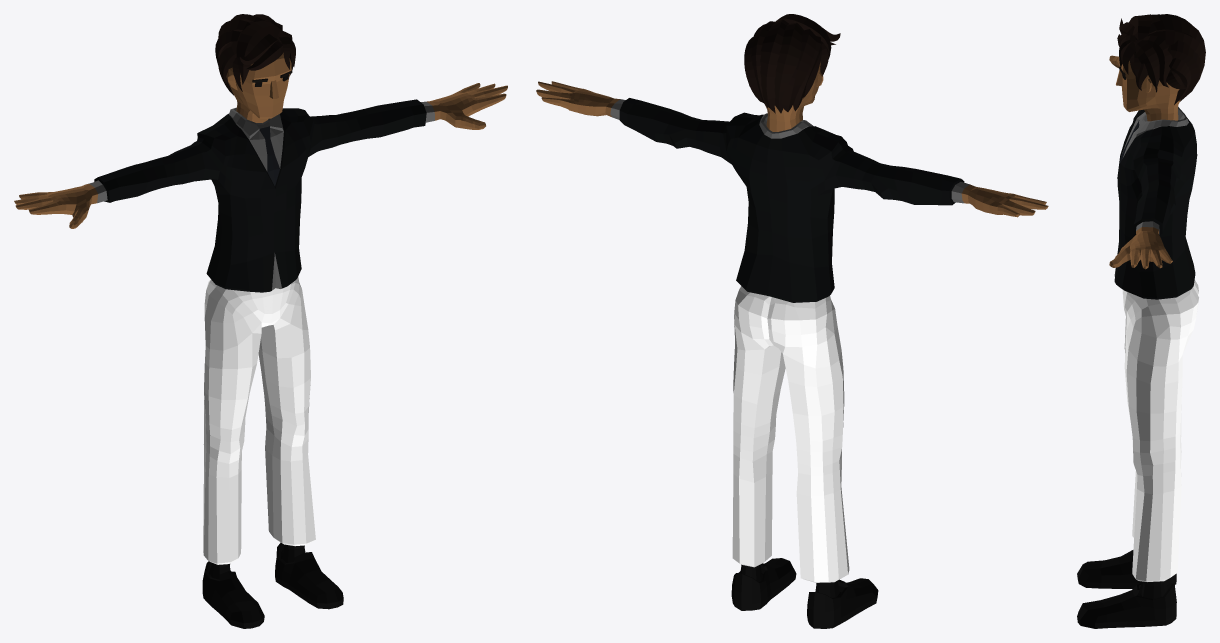
The model's file is Business Man.obj.
The picture shows the model from 3 angles, left to right: view 1: azimuth 30°, elevation 25°; view 2: azimuth 150°, elevation 25°; view 3: azimuth 270°, elevation 25°; orthographic projection. The views are drawn at different scales.
Parts seen in each view (by area): view 1: obj1, obj3, obj2, obj6, obj8, obj7, obj4; view 2: obj1, obj3, obj8, obj2, obj6, obj7, obj4; view 3: obj1, obj3, obj8, obj2, obj7, obj6, obj4.
Boxes of the visible parts, x1=… form: obj1: x1=203, y1=277, x2=315, y2=564; obj3: x1=94, y1=99, x2=426, y2=292; obj2: x1=202, y1=542, x2=343, y2=628; obj6: x1=14, y1=83, x2=507, y2=228; obj8: x1=215, y1=14, x2=295, y2=95; obj7: x1=226, y1=52, x2=291, y2=122; obj4: x1=88, y1=101, x2=434, y2=290; obj1: x1=732, y1=286, x2=849, y2=582; obj3: x1=619, y1=98, x2=964, y2=302; obj8: x1=744, y1=14, x2=840, y2=113; obj2: x1=731, y1=558, x2=878, y2=628; obj6: x1=536, y1=81, x2=1048, y2=217; obj7: x1=765, y1=62, x2=823, y2=131; obj4: x1=610, y1=99, x2=969, y2=203; obj1: x1=1122, y1=280, x2=1198, y2=581; obj3: x1=1114, y1=109, x2=1197, y2=299; obj8: x1=1117, y1=14, x2=1205, y2=104; obj2: x1=1077, y1=550, x2=1176, y2=628; obj7: x1=1116, y1=56, x2=1180, y2=121; obj6: x1=1109, y1=55, x2=1172, y2=269; obj4: x1=1114, y1=107, x2=1188, y2=276.
Bounding box in the file's own units: 1.68 × 1.86 × 0.3716.
